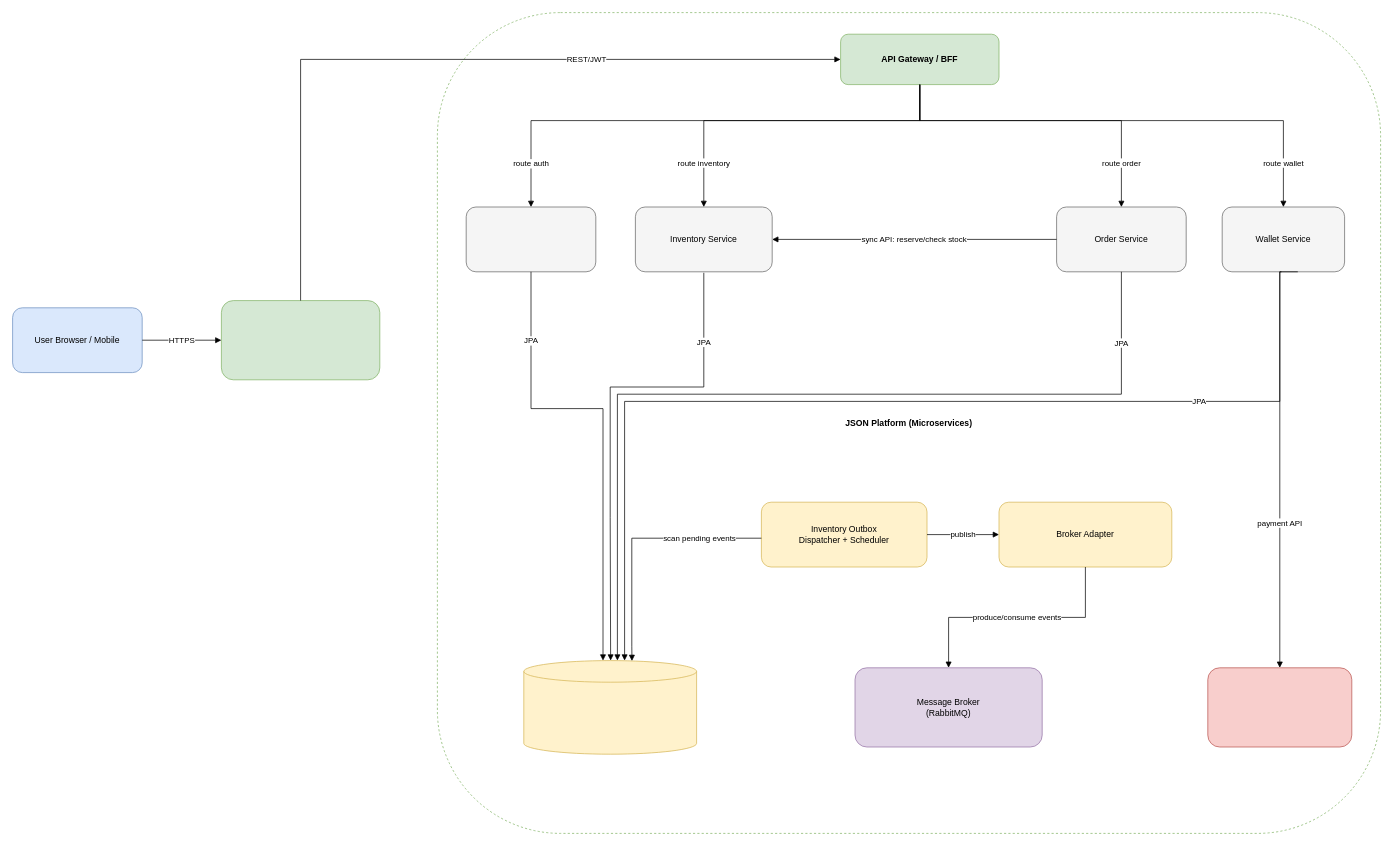
Image size: 1393x846. Some labels were removed from this diagram. The shapes that lost their labels are listed below. From the top down, each one's box as (x1, y1, x2, y2) in pixels, then its label:
(465, 206, 596, 272): Auth Service
(221, 300, 380, 380): Next.js Frontend
(523, 660, 697, 754): PostgreSQL Cluster (auth_db, inventory_db, order_db, wallet_db)
(1207, 667, 1352, 747): Payment Gateway
